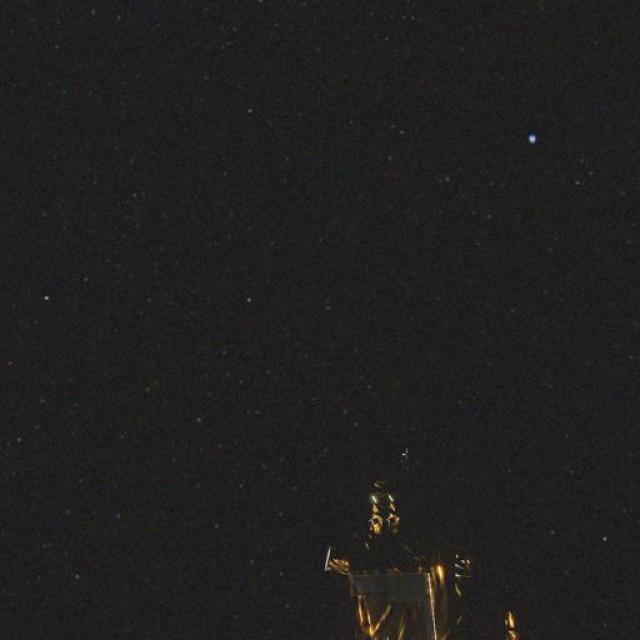lisa_pathfinder: (300, 447, 564, 640)
